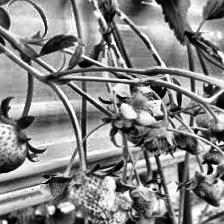Powdery Mildew Fruit: (66, 169, 118, 214), (0, 114, 29, 175), (89, 192, 132, 224), (190, 174, 224, 206)
